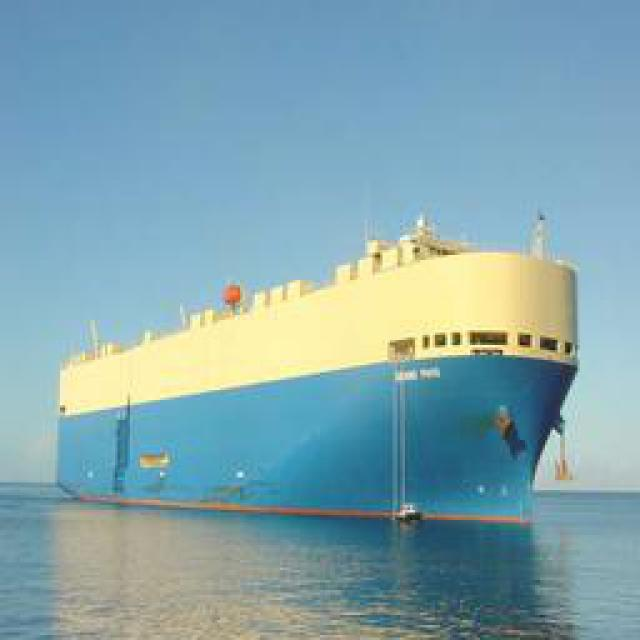Ship: (49, 220, 582, 525)
